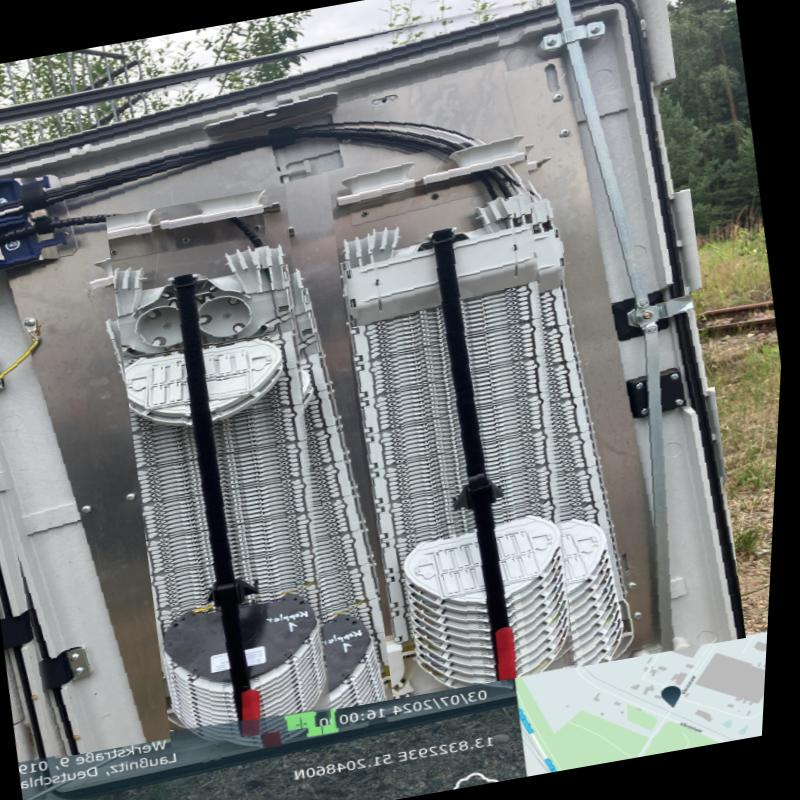NT-Gehause: (0, 0, 779, 765)
Spleiskassetten: (306, 129, 620, 699), (86, 186, 382, 752)
